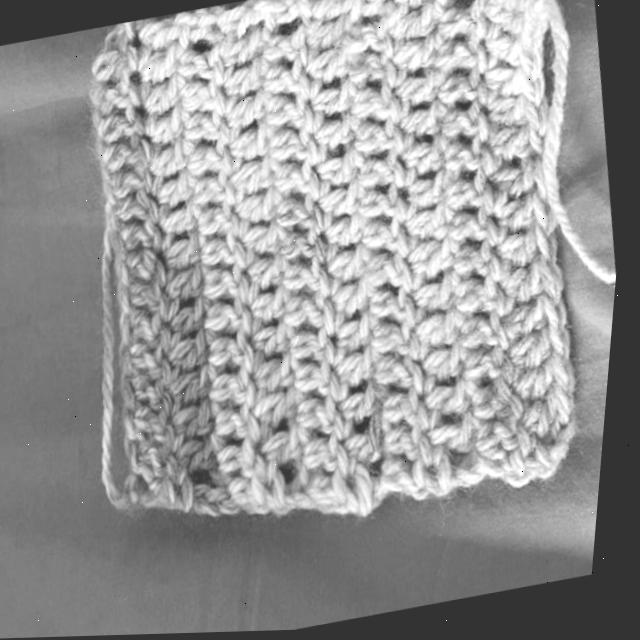ch: (121, 279, 137, 313), (107, 204, 125, 234), (124, 346, 140, 377), (104, 168, 117, 203), (113, 231, 128, 260), (128, 377, 140, 413), (124, 314, 135, 348), (120, 256, 131, 290), (132, 440, 144, 471), (130, 408, 142, 438)
dc: (498, 196, 559, 253), (484, 32, 545, 89), (492, 159, 548, 220), (487, 0, 546, 56), (397, 174, 461, 224), (512, 330, 576, 380), (415, 309, 473, 364), (405, 242, 464, 296), (503, 299, 572, 345), (419, 346, 476, 398), (444, 167, 495, 224), (487, 100, 551, 145), (485, 69, 548, 114), (342, 420, 389, 480), (429, 412, 478, 469), (503, 224, 560, 273), (385, 6, 439, 57), (426, 379, 474, 436), (339, 384, 384, 443), (269, 423, 308, 491), (410, 278, 464, 327), (434, 452, 491, 498), (509, 261, 567, 306), (91, 75, 150, 119), (314, 471, 377, 512), (330, 314, 376, 370), (392, 36, 442, 87), (518, 362, 580, 403), (252, 0, 308, 45), (173, 333, 218, 388), (287, 295, 342, 340), (314, 152, 367, 198), (216, 2, 261, 56), (171, 268, 215, 323), (318, 179, 362, 234), (174, 365, 221, 416), (179, 403, 227, 452), (348, 121, 404, 163), (139, 13, 199, 52), (174, 299, 218, 352), (226, 59, 265, 118), (529, 391, 581, 435), (262, 26, 305, 79), (135, 309, 177, 363), (337, 348, 378, 403), (319, 216, 364, 266), (311, 82, 353, 135), (236, 190, 281, 239), (223, 30, 266, 81), (234, 154, 276, 206), (315, 116, 357, 168), (257, 322, 298, 375), (184, 436, 230, 483), (269, 129, 317, 174), (103, 137, 161, 174), (490, 128, 545, 167), (477, 384, 528, 426), (308, 50, 348, 103), (189, 480, 246, 517), (333, 248, 375, 298), (132, 467, 183, 508), (402, 137, 453, 178), (459, 279, 511, 319), (265, 59, 309, 106), (299, 356, 338, 409), (335, 280, 374, 333), (93, 47, 152, 82), (439, 104, 488, 146), (211, 302, 256, 347), (458, 242, 505, 285), (265, 98, 313, 140), (174, 50, 227, 88), (251, 257, 292, 306), (260, 355, 301, 403), (399, 101, 448, 141), (228, 92, 267, 142), (307, 436, 346, 486), (244, 225, 287, 270), (384, 391, 427, 436), (408, 209, 450, 255), (436, 74, 488, 111), (260, 391, 299, 440), (302, 398, 341, 447), (187, 178, 241, 213), (100, 110, 151, 147), (150, 140, 201, 177), (483, 424, 534, 461), (198, 204, 241, 247), (204, 240, 247, 283), (223, 403, 268, 444), (141, 43, 186, 84), (117, 193, 172, 226), (396, 72, 445, 109), (277, 163, 319, 206), (448, 138, 490, 181), (137, 379, 178, 423), (432, 47, 488, 79), (135, 346, 177, 388), (146, 76, 191, 115), (334, 24, 385, 58), (209, 274, 258, 309), (114, 166, 165, 199), (150, 105, 192, 145), (306, 22, 343, 67), (215, 375, 261, 411), (463, 319, 513, 352), (185, 114, 232, 149), (254, 291, 289, 338), (141, 409, 181, 450), (230, 125, 270, 166), (438, 12, 486, 46), (225, 442, 270, 478), (134, 283, 179, 319), (182, 82, 227, 118), (390, 460, 431, 499), (285, 259, 323, 301), (377, 357, 421, 393), (215, 342, 258, 378), (189, 150, 244, 178), (359, 186, 403, 221), (124, 224, 177, 253), (146, 443, 186, 481), (349, 85, 391, 121), (276, 479, 319, 514), (127, 253, 175, 284), (279, 195, 321, 230), (467, 349, 510, 383), (296, 330, 332, 370), (345, 0, 393, 30), (368, 254, 408, 290), (170, 235, 211, 270), (341, 59, 387, 90), (364, 220, 403, 256), (240, 478, 281, 512), (281, 227, 322, 261), (361, 161, 407, 191), (450, 213, 493, 245), (376, 323, 415, 358), (390, 427, 429, 462), (161, 173, 199, 208), (311, 0, 349, 35), (383, 0, 433, 26), (374, 289, 411, 323), (187, 12, 222, 46), (163, 206, 199, 234), (435, 0, 455, 10)
